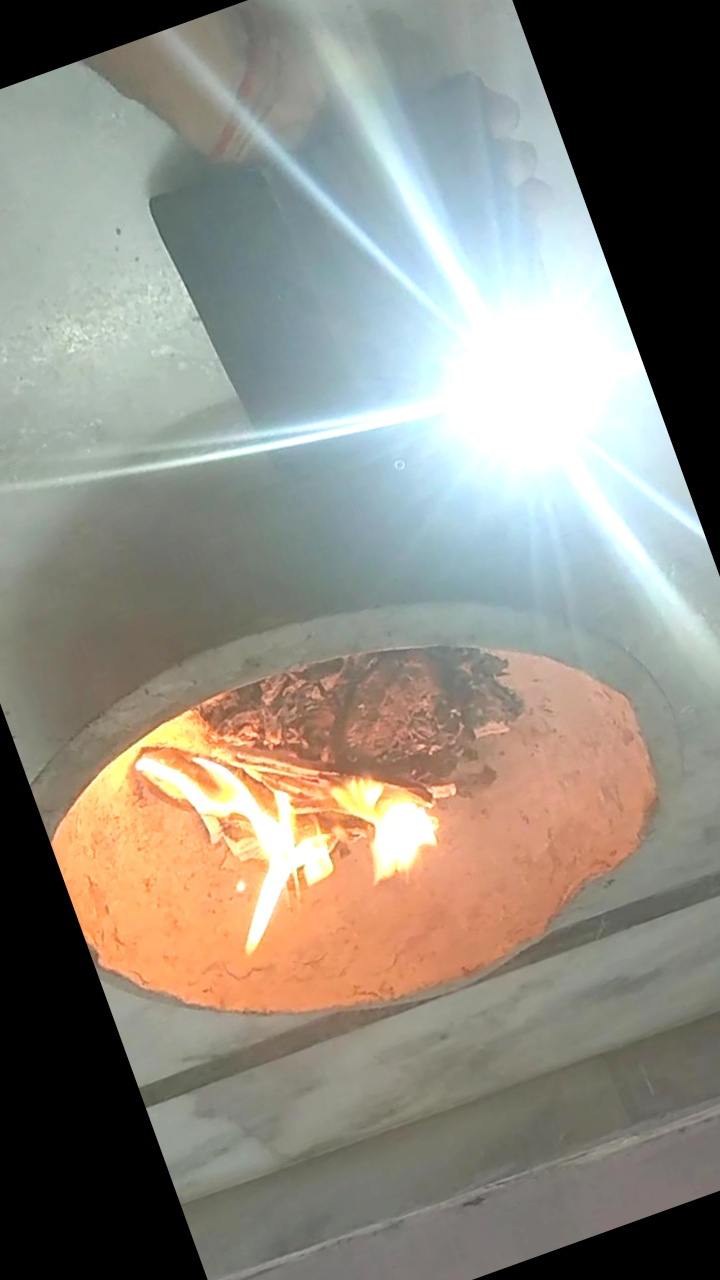fire: (160, 707, 462, 971)
